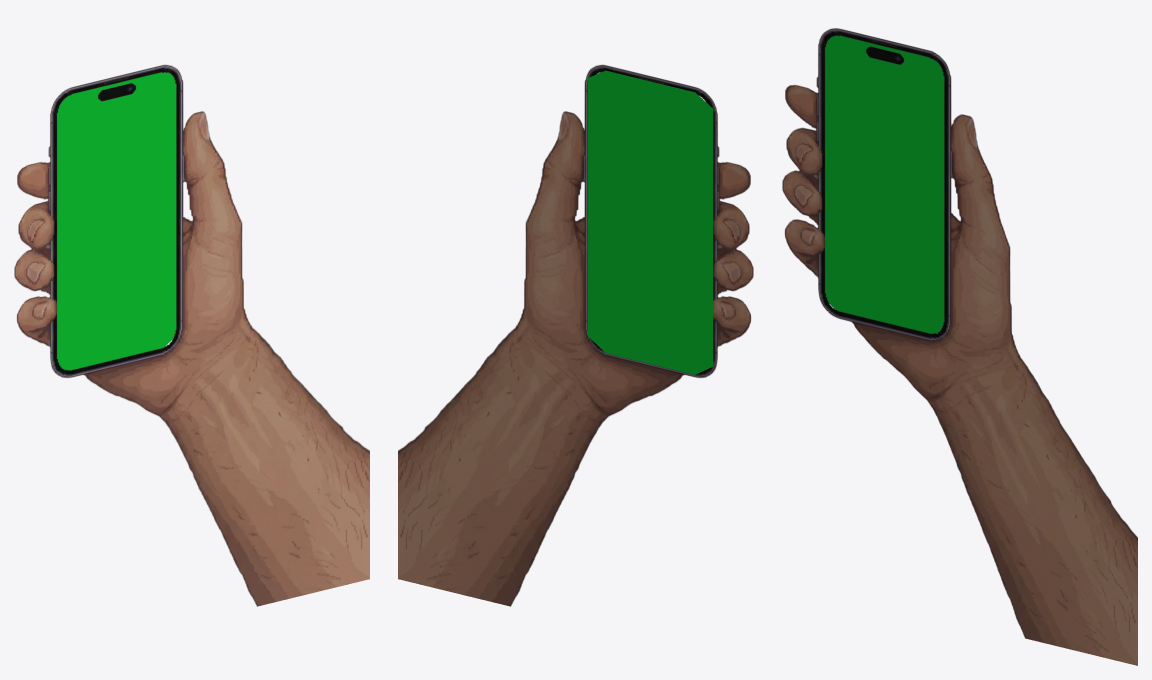
The model's file is hand_with_phone_base.glb.
3 views of the same model, side by side, from view 1: azimuth 30°, elevation 25°; view 2: azimuth 150°, elevation 25°; view 3: azimuth 330°, elevation 25° (orthographic).
Visible parts, largest first — view 1: hand_with_phone_base, screen; view 2: hand_with_phone_base, screen; view 3: hand_with_phone_base, screen.
Boxes of the visible parts, x1,y1,x2,y2 form: hand_with_phone_base: (14,64,369,606); screen: (57,72,176,370); hand_with_phone_base: (398,64,753,606); screen: (587,70,713,374); hand_with_phone_base: (782,28,1137,665); screen: (825,35,944,333).
Size of the model in its own units: 0.1648 by 0.25 by 0.000913.
2 materials, 1 textured.
